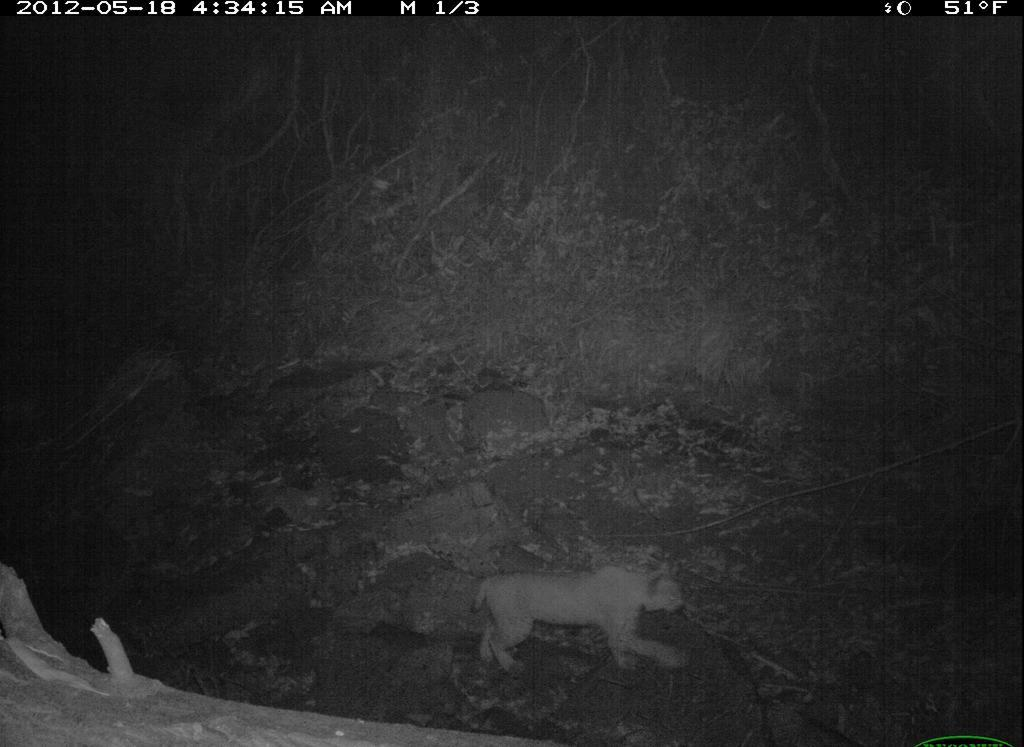bobcat: (454, 542, 708, 692)
